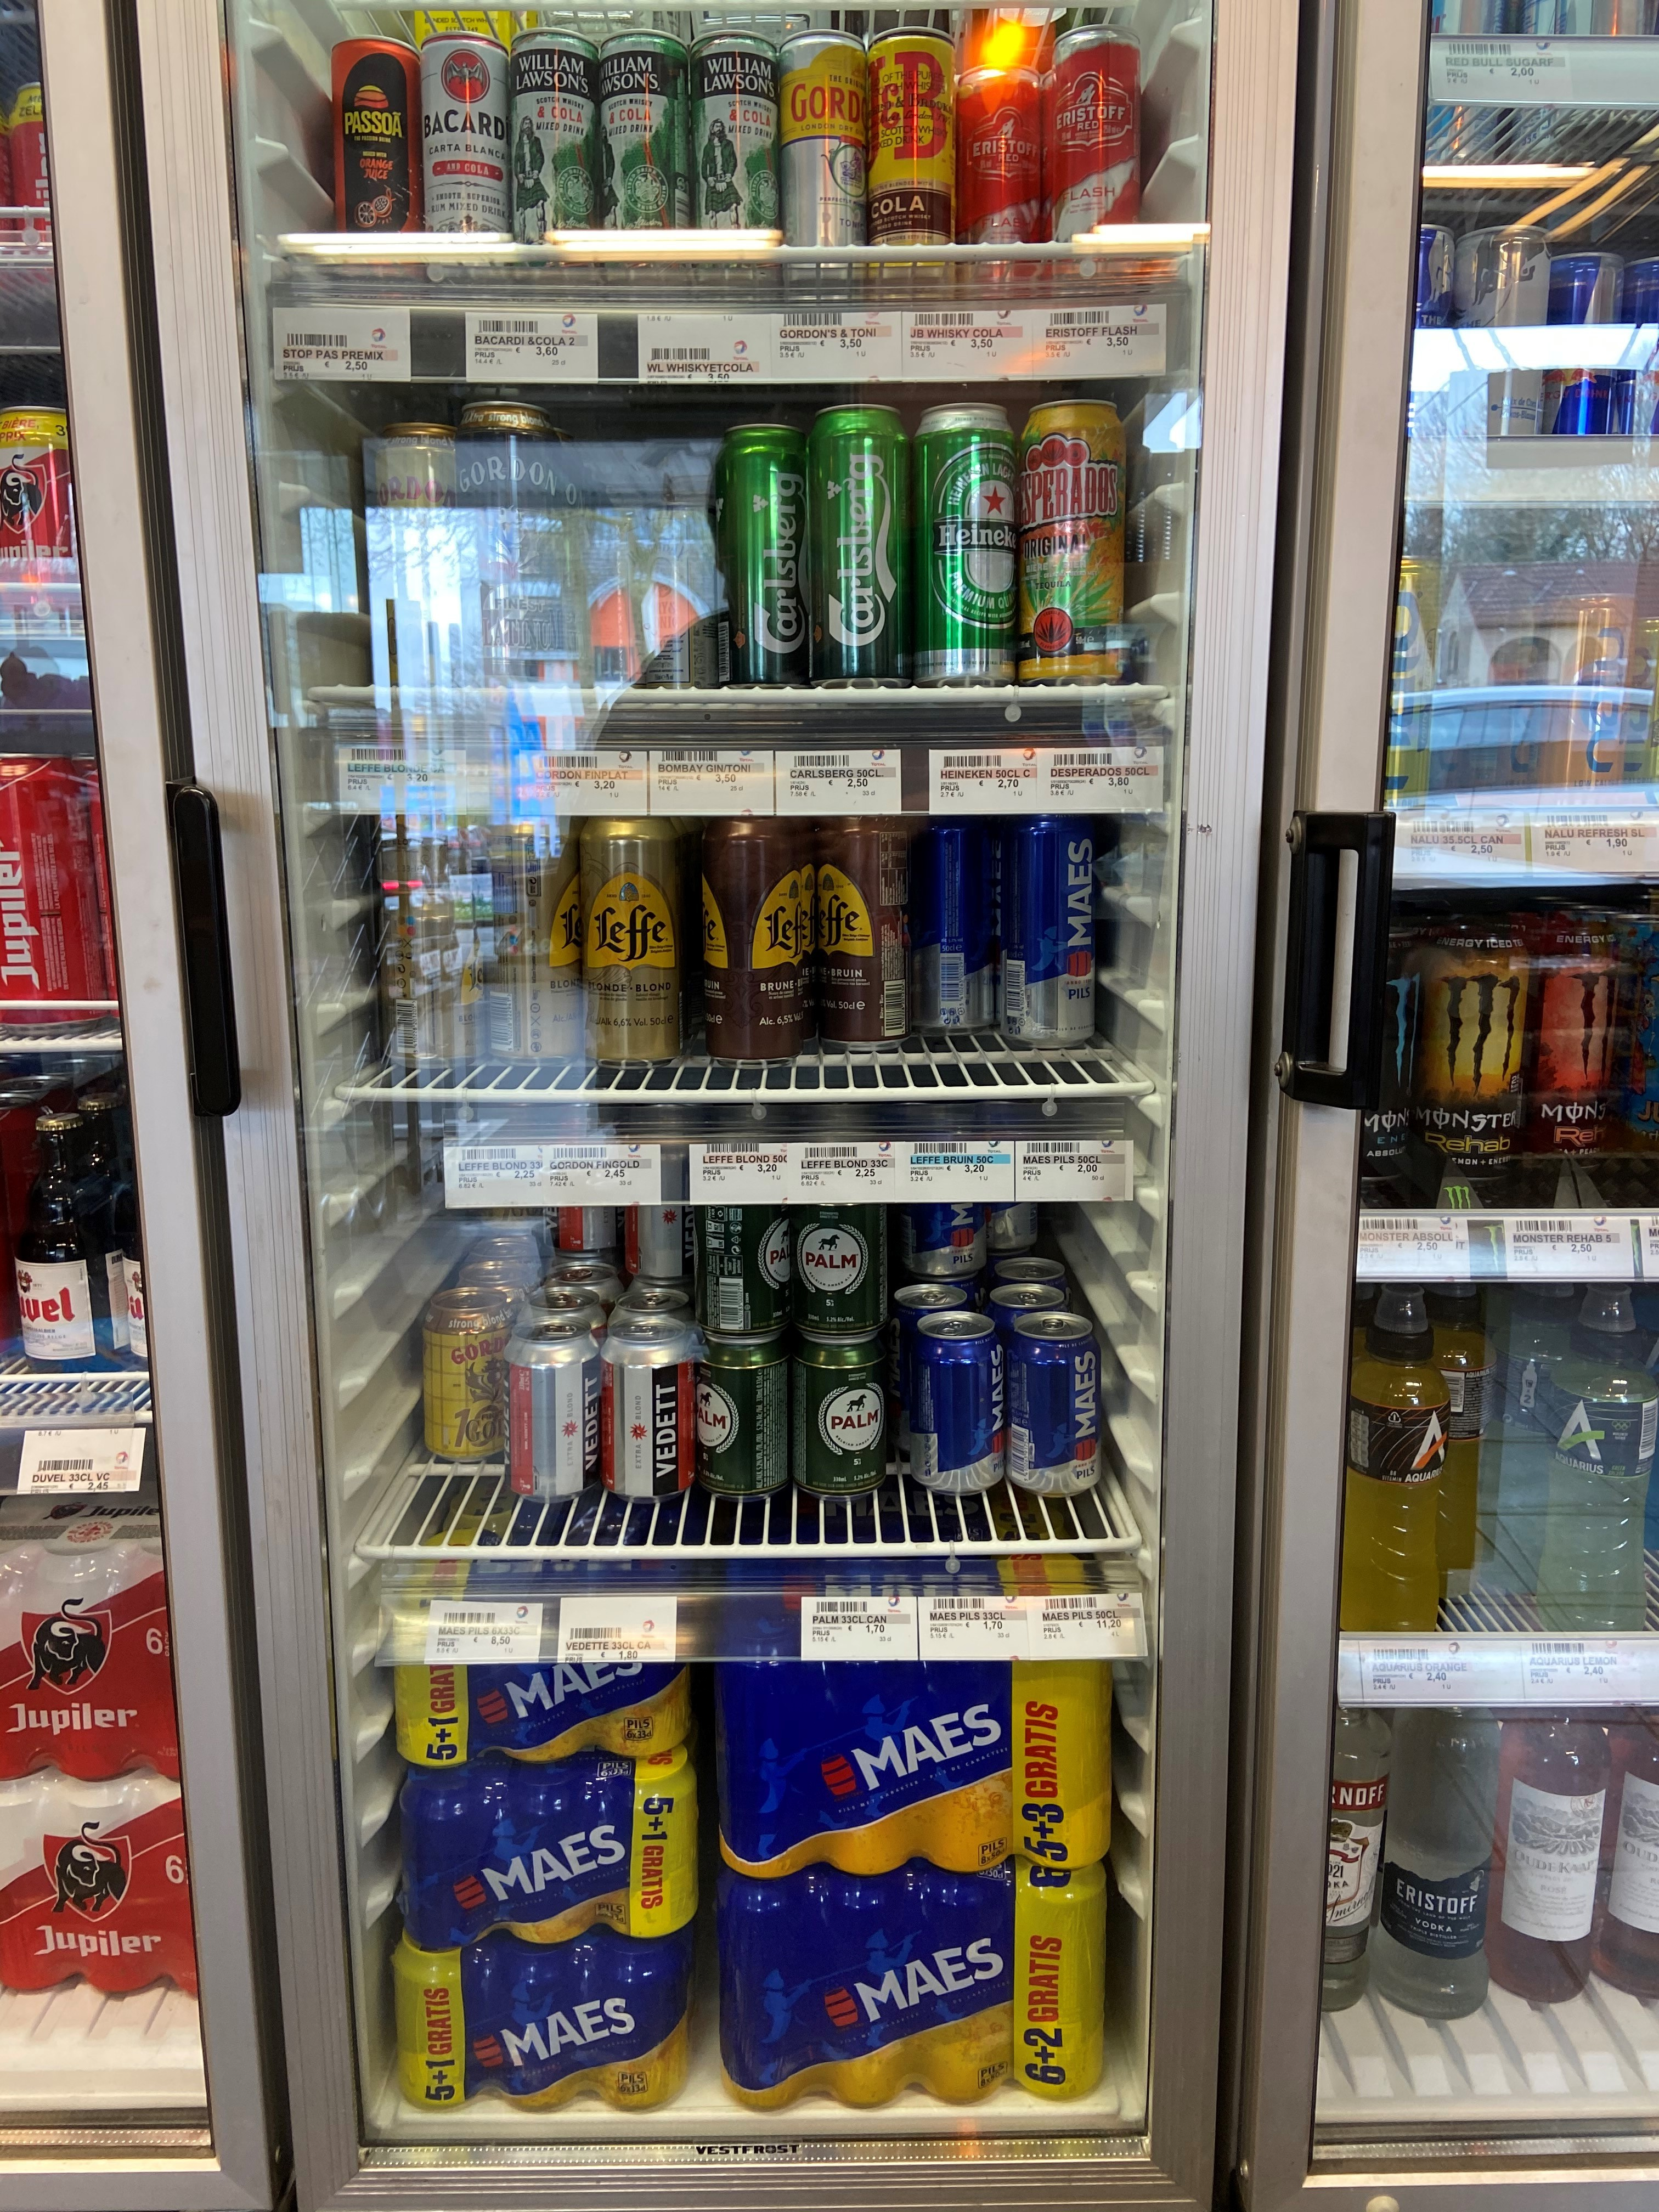AquariusGreenSplashFles500ml: (1534, 1277, 1659, 1649)
AquariusOrangeFles: (1338, 1277, 1453, 1637)
Bacardi: (416, 33, 511, 260)
CarlsbergOriginal: (809, 402, 915, 693), (718, 423, 816, 693)
DesperadosBlikOriginal: (1016, 399, 1131, 690)
Duvel: (10, 1115, 134, 1376)
EristoffRed: (1047, 24, 1147, 279), (953, 61, 1044, 284)
EristoffVodka: (1373, 1622, 1506, 2017)
GordonGold33cl: (420, 1287, 514, 1461)
GordonGold50cl: (371, 421, 479, 707)
GordonPlatinum: (453, 401, 568, 698)
GordonTonic: (775, 30, 870, 277)
Heineken50cl: (910, 402, 1021, 691)
JB: (863, 23, 955, 282)
JupilerBlik35,5cl: (0, 404, 87, 613)
JupilerBlik50cl: (0, 752, 99, 1038)
JupilerBlik6x50cl: (0, 1484, 275, 1787), (2, 1768, 242, 1993)
LeffeBlond50cl: (373, 803, 490, 1068), (580, 812, 687, 1071), (486, 810, 591, 1068)
LeffeBruinBlik: (701, 810, 805, 1068), (810, 801, 913, 1050)
Maes33cl: (904, 1310, 1006, 1498), (1007, 1312, 1101, 1500)
Maes50cl: (997, 803, 1105, 1045), (908, 803, 1004, 1031)
Maes6x33cl: (394, 1533, 697, 1764), (380, 1918, 695, 2121), (399, 1726, 701, 1933)
Maes8x50cl: (718, 1554, 1115, 1874), (716, 1831, 1115, 2123)
MonsterAbsolutelyZero500ml: (1317, 921, 1424, 1193)
MonsterTeaEnergy: (1520, 918, 1626, 1174)
MonsterTeaLemonEnergy: (1422, 920, 1535, 1198)
NaluExotic250ml: (1535, 587, 1642, 834)
NaluOriginal350ml: (1352, 554, 1448, 824)
OudeKaapRose: (1485, 1634, 1617, 2001)
Palm: (793, 1167, 894, 1338), (697, 1172, 796, 1339), (699, 1332, 795, 1503), (795, 1331, 890, 1500)
Passoa: (328, 33, 420, 263)
RedBullBlue: (1377, 218, 1457, 463)
RedBullOriginalBlik355ml: (1546, 249, 1626, 465)
RedBullWhite: (1448, 223, 1553, 456)
Smirnoff: (1270, 1625, 1394, 2013)
Vedett: (502, 1315, 603, 1507), (599, 1317, 701, 1503)
WilliamLawson: (687, 28, 781, 270), (598, 28, 688, 261), (509, 28, 599, 258)
